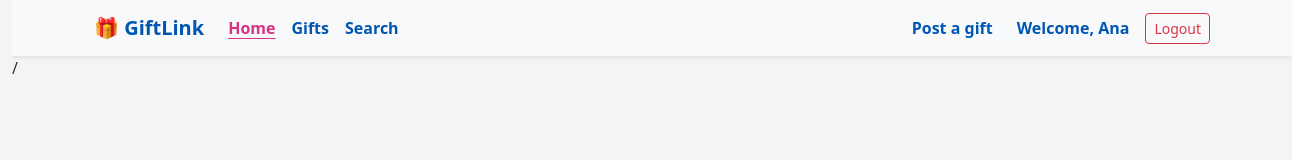
Test: <Navbar /> › logs out, clears the session and redirects to login
The width and height of the screenshot is (1292, 160).
Click the button "Logout": [1178, 28] box x1=1145 y1=12 x2=1210 y2=44
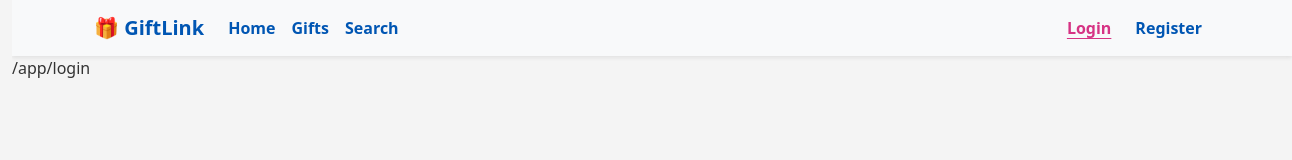
Check: the link "Login" is shown, box x1=1067 y1=17 x2=1111 y2=39
Check: the text with test id "location" reads "/app/login", box x1=12 y1=57 x2=90 y2=79
